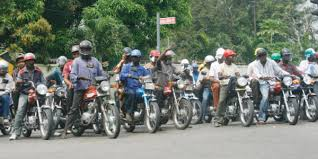helmet: (74, 41, 108, 62), (19, 50, 38, 68), (124, 50, 145, 65), (151, 47, 162, 65), (281, 48, 294, 61)
